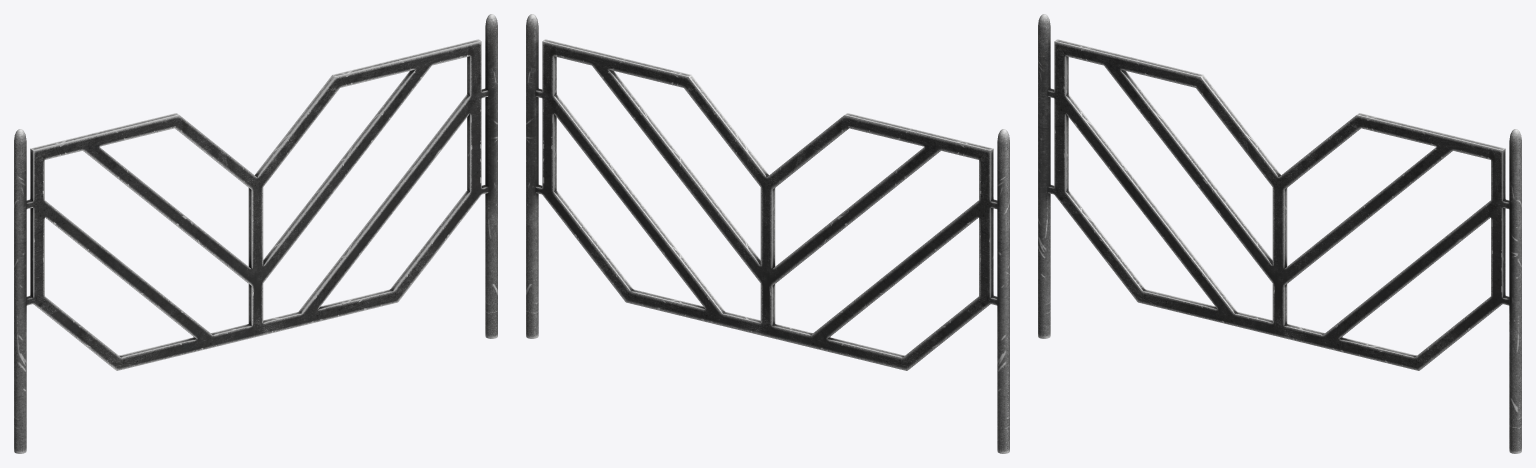
File: zab_3.obj
The picture shows the model from 3 angles, left to right: view 1: azimuth 30°, elevation 25°; view 2: azimuth 150°, elevation 25°; view 3: azimuth 330°, elevation 25°; orthographic projection.
Parts seen in each view (by area): view 1: ________0; view 2: ________0; view 3: ________0.
Boxes of the visible parts, x1,y1,x2,y2 form: ________0: (14,14,497,453); ________0: (526,14,1009,453); ________0: (1038,14,1521,453).
Size of the model in its own units: 0.8932 by 0.57 by 0.02.
1 material, 1 textured.
